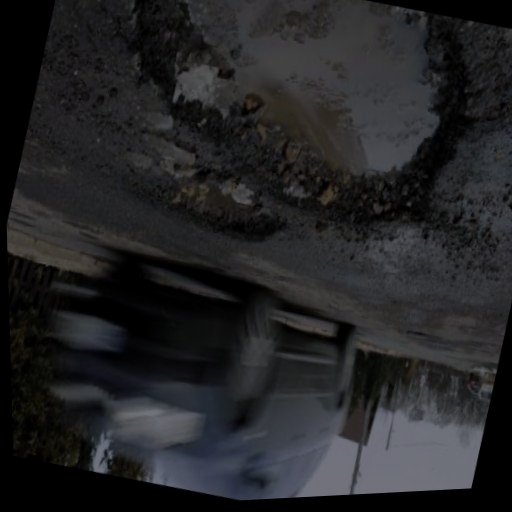pothole: (77, 0, 498, 273), (115, 144, 297, 261)
